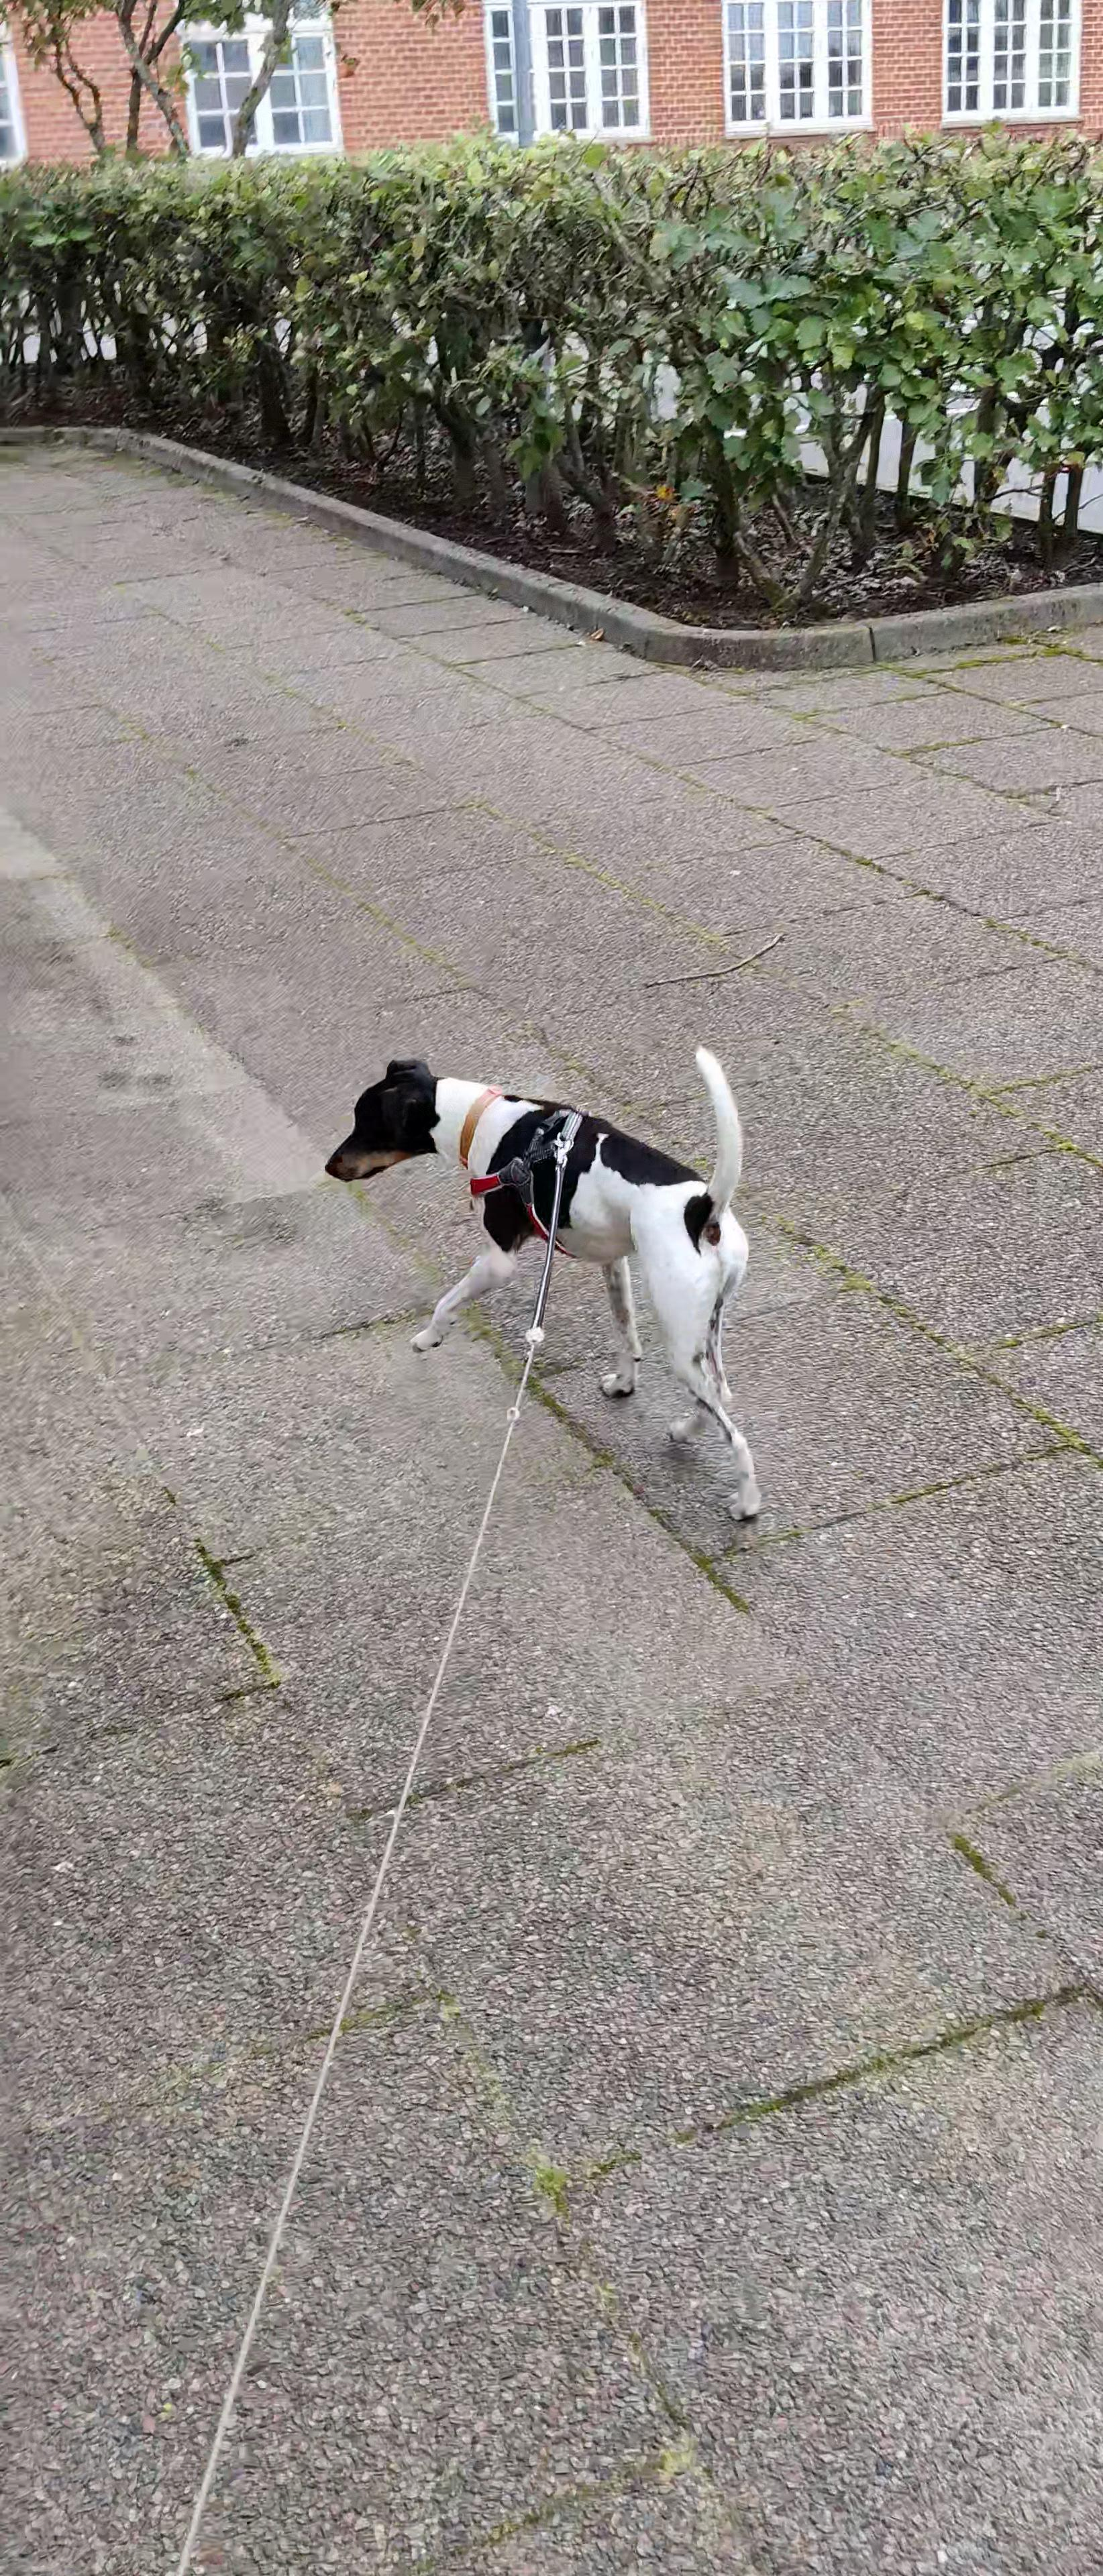Dog: (312, 1017, 771, 1526)
